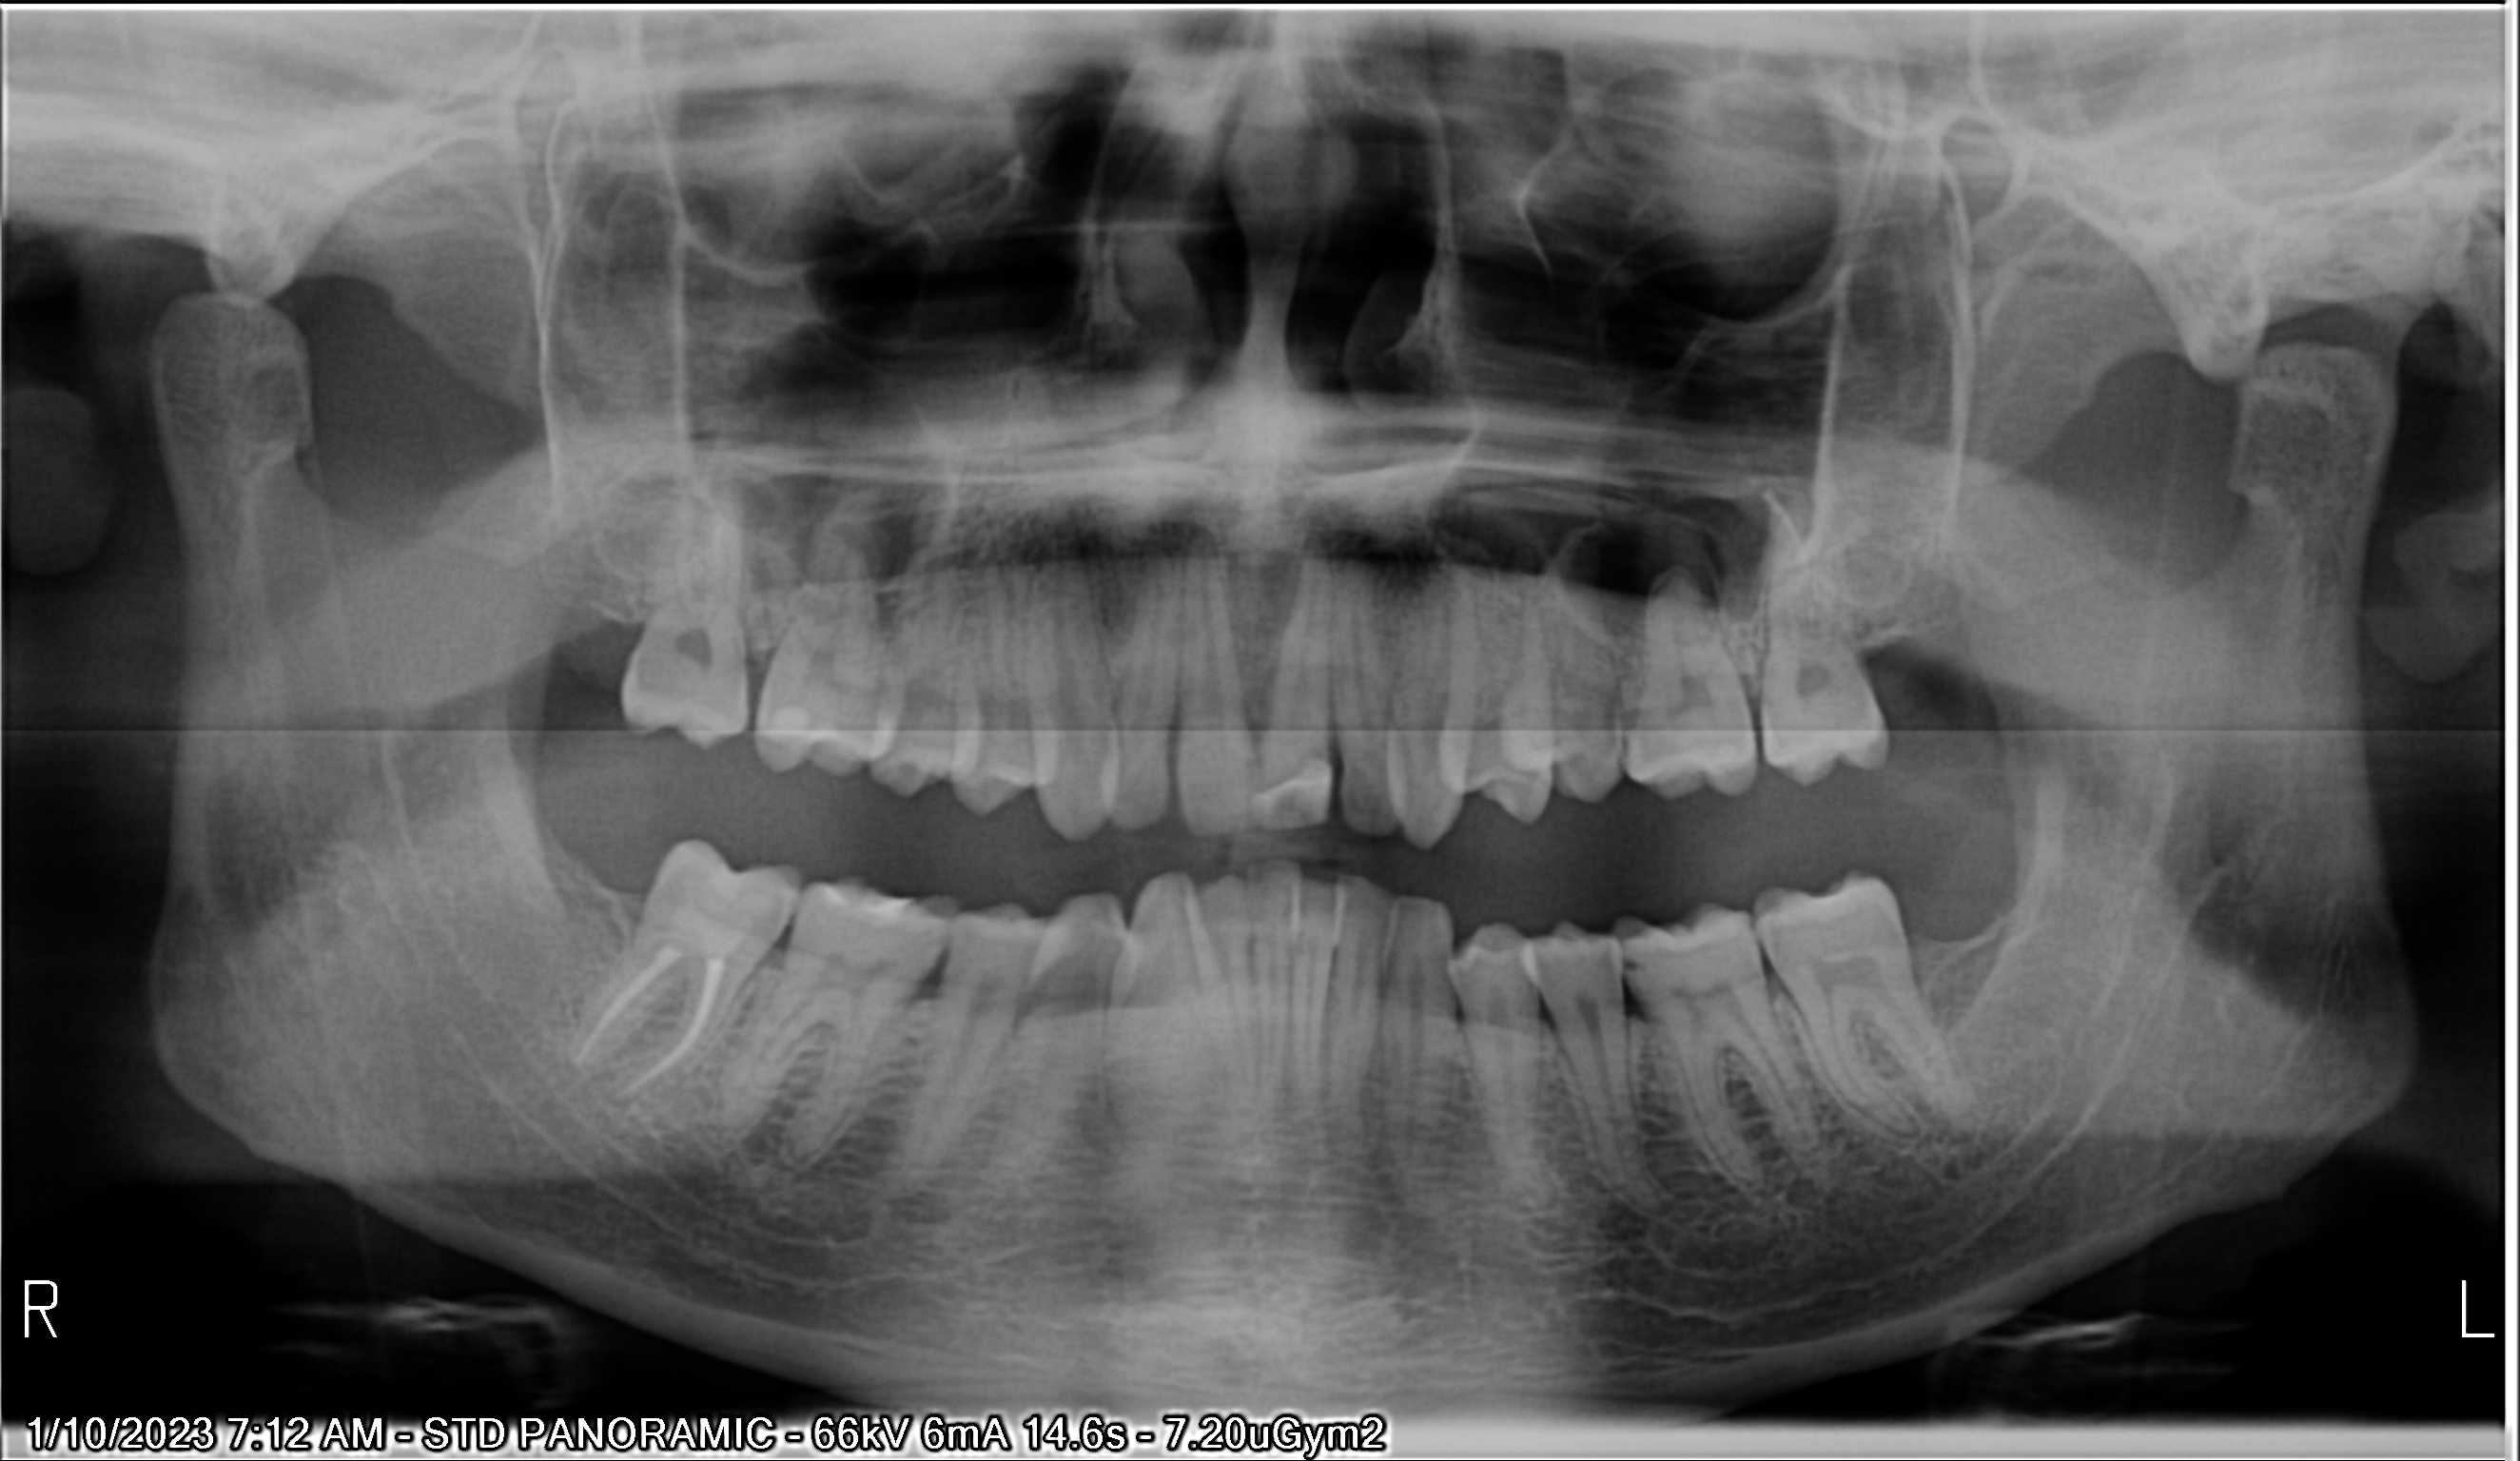CAR: (767, 449, 2433, 1437)
END: (146, 404, 894, 1461)
OBT: (576, 322, 1923, 1160), (336, 400, 1270, 1327), (238, 372, 1040, 1331), (348, 317, 1170, 1063)
